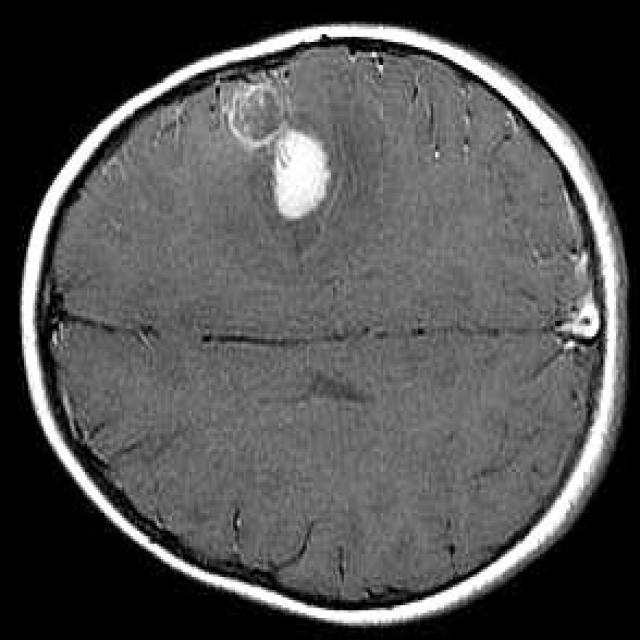tumor: (229, 87, 329, 218)
